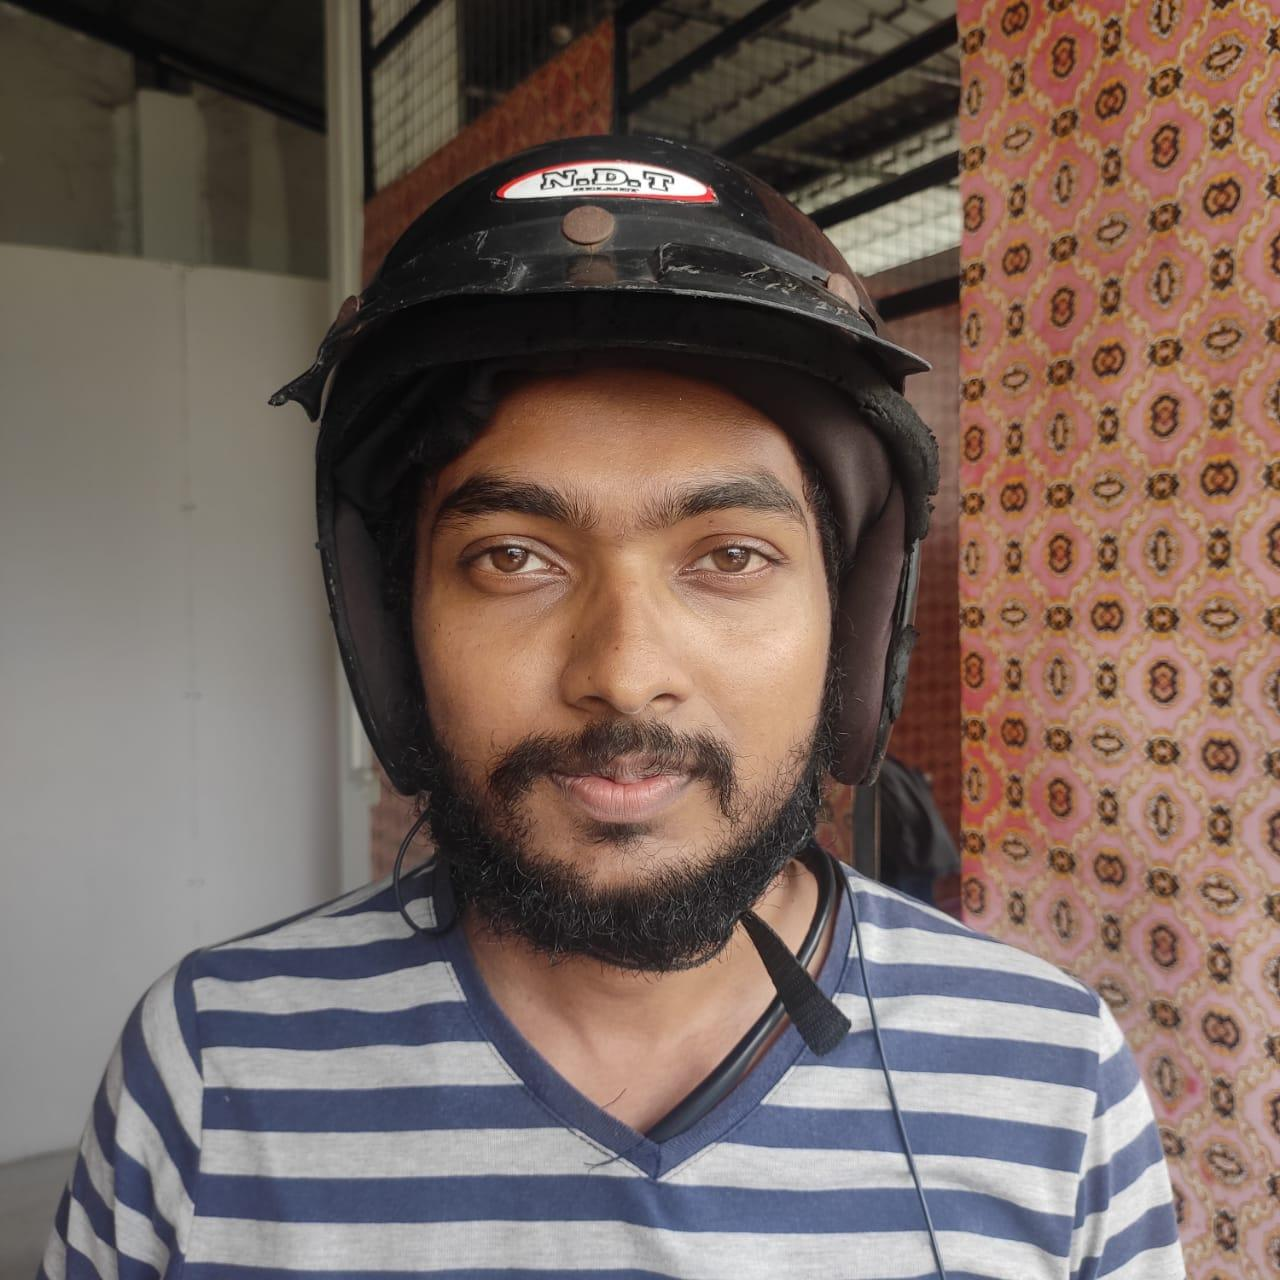helmet: (266, 130, 949, 878)
